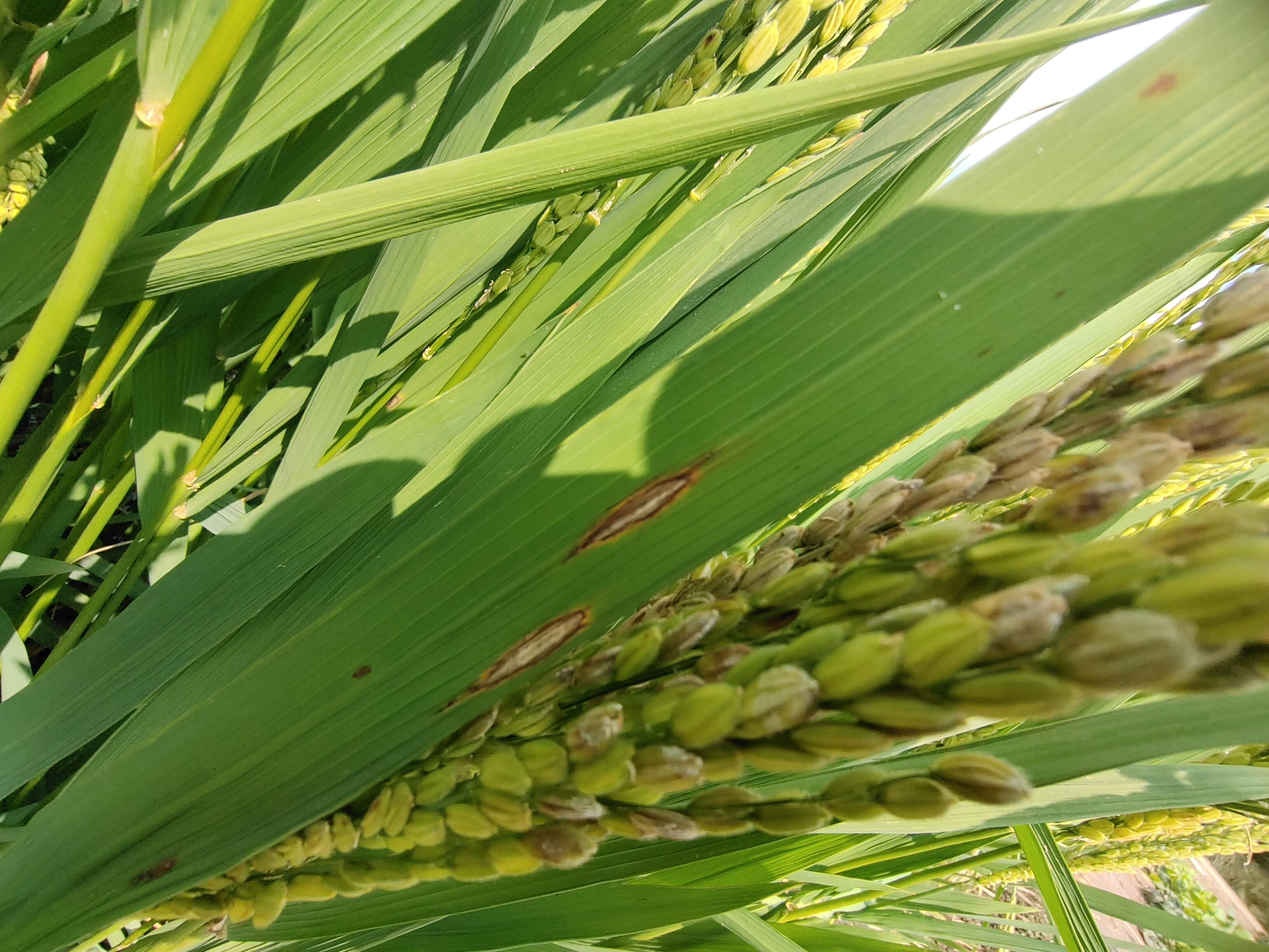LEAF: (0, 0, 1269, 952)
LEAF BLAST: (560, 451, 716, 563), (436, 608, 591, 714)
